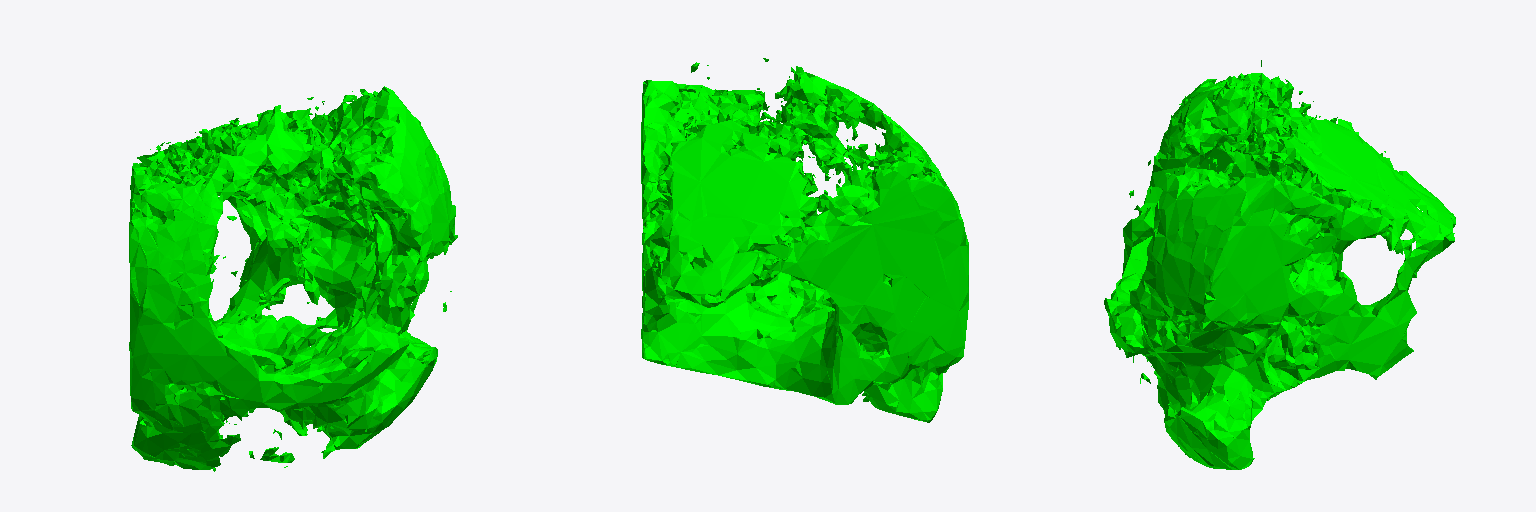
The model's file is B939XXXX-1_base_41.obj.
3 views of the same model, side by side, from view 1: azimuth 30°, elevation 25°; view 2: azimuth 150°, elevation 25°; view 3: azimuth 270°, elevation 25° (orthographic).
Visible parts, largest first — view 1: 41_base; view 2: 41_base; view 3: 41_base.
Part boxes in pixels (left/top/right/bottom): 41_base: left=129, top=86, right=457, bottom=471; 41_base: left=641, top=58, right=968, bottom=422; 41_base: left=1104, top=60, right=1455, bottom=469.
Bounding box in the file's own units: 218 × 218 × 204.